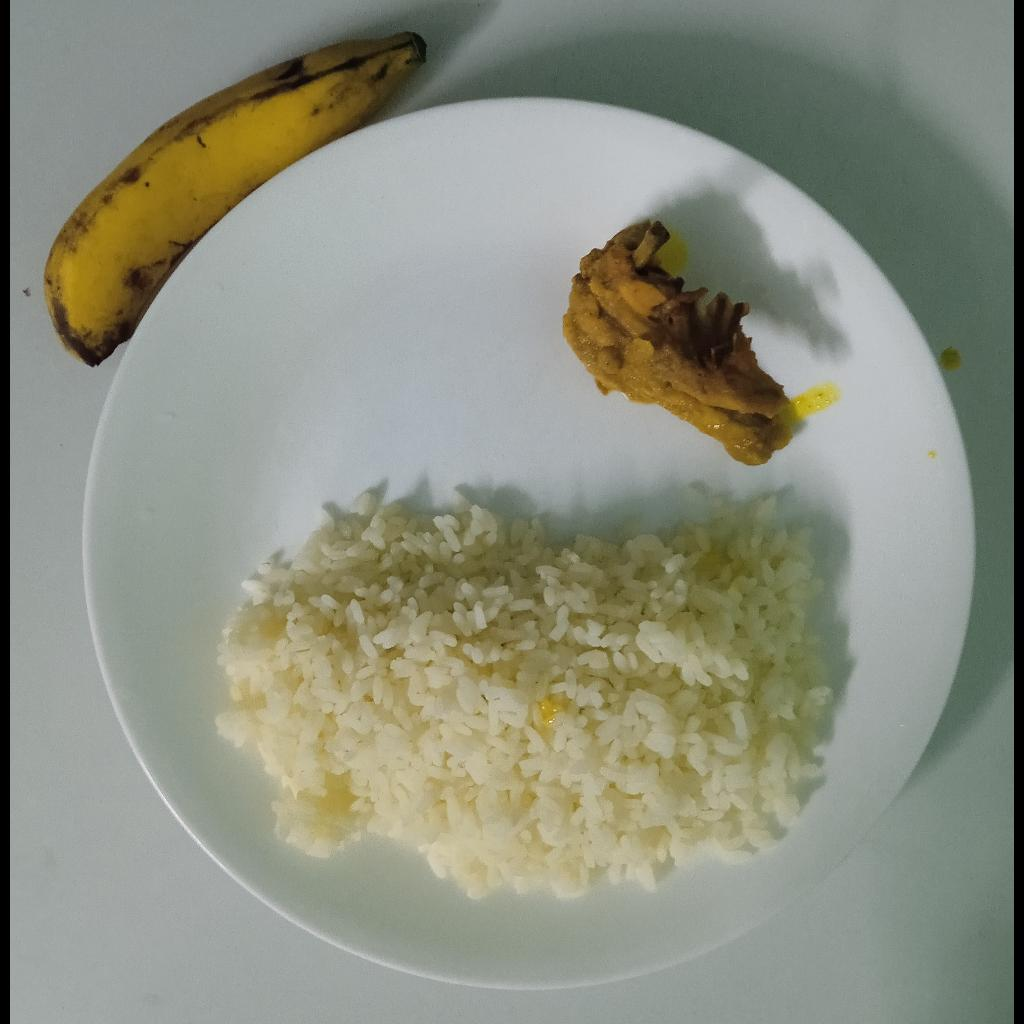banana: (44, 33, 427, 366)
chicken: (561, 217, 795, 468)
rice: (213, 484, 834, 908)
